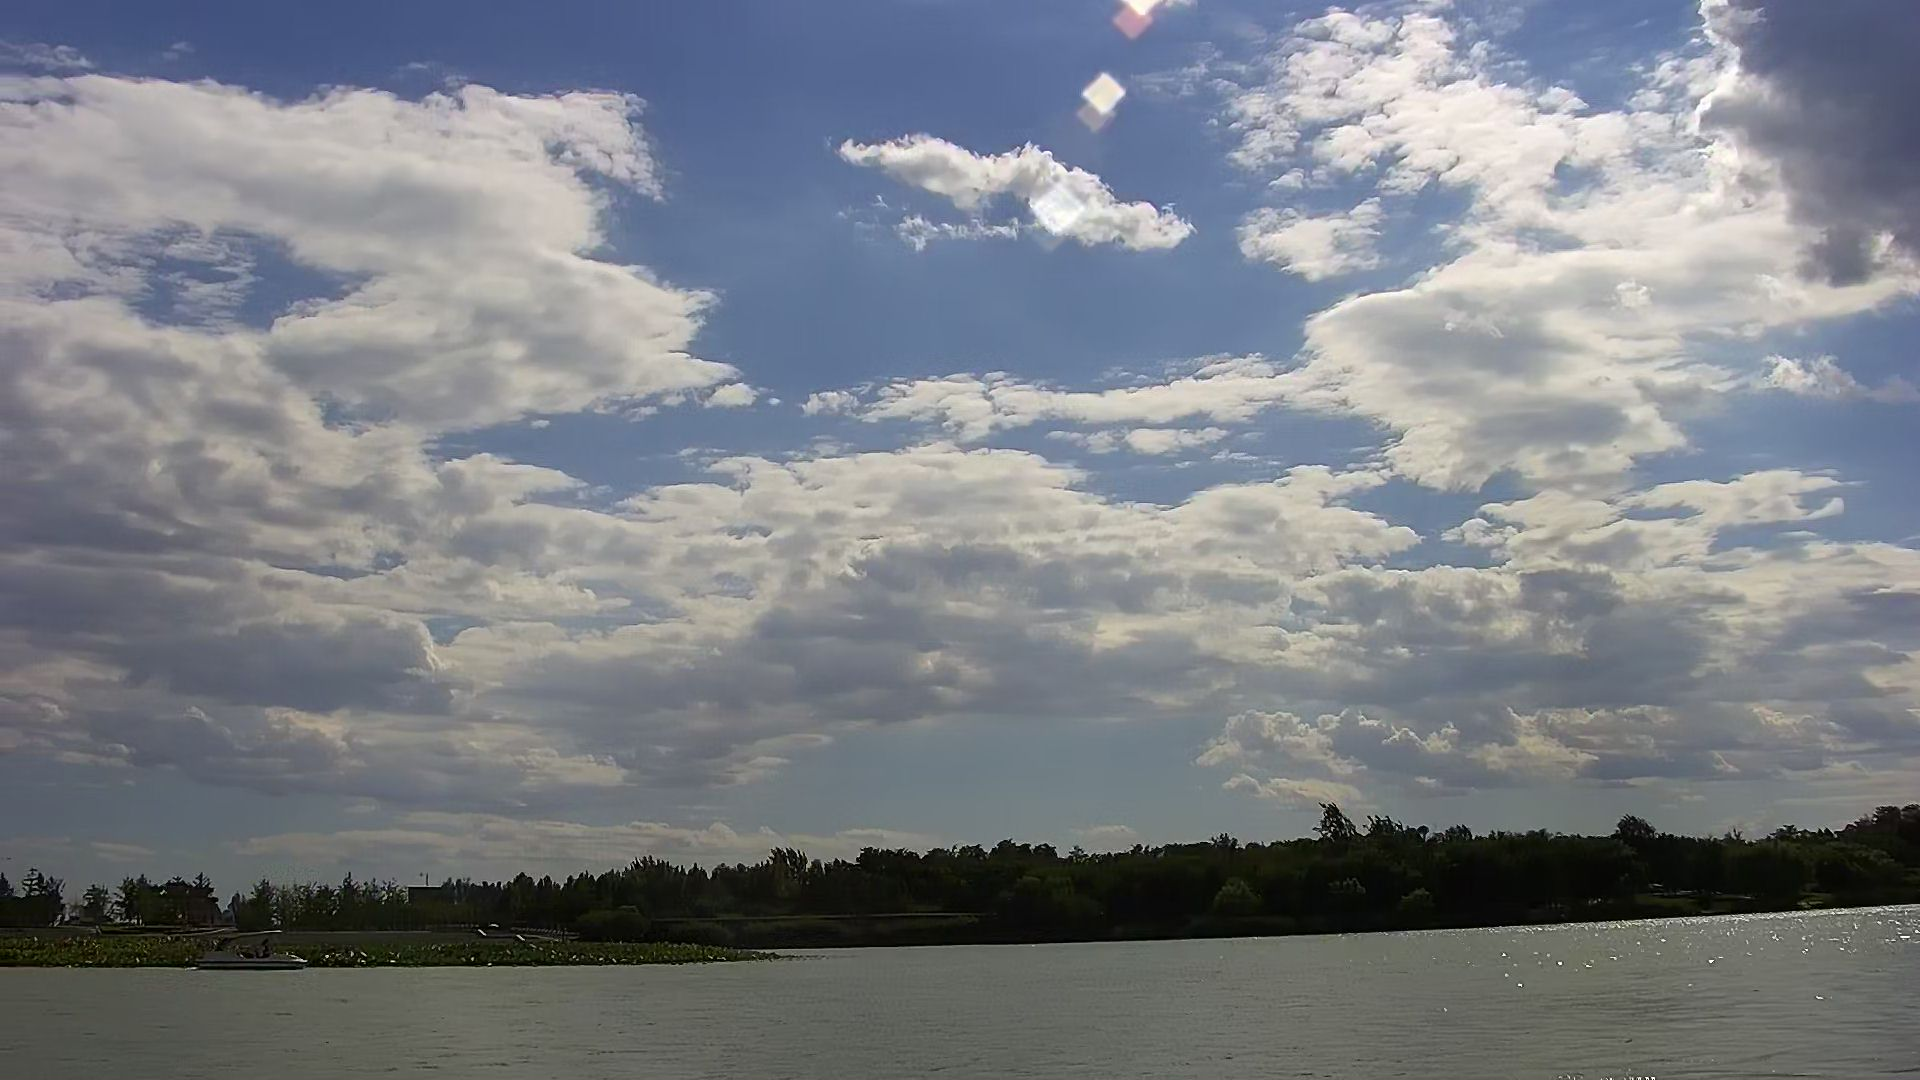boat: (193, 924, 311, 975)
